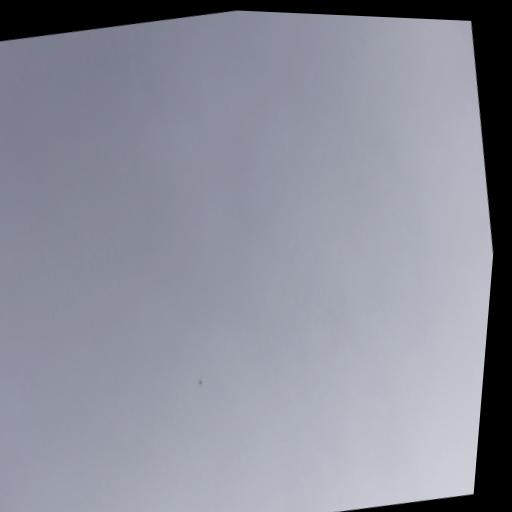drones: (195, 376, 204, 387)
